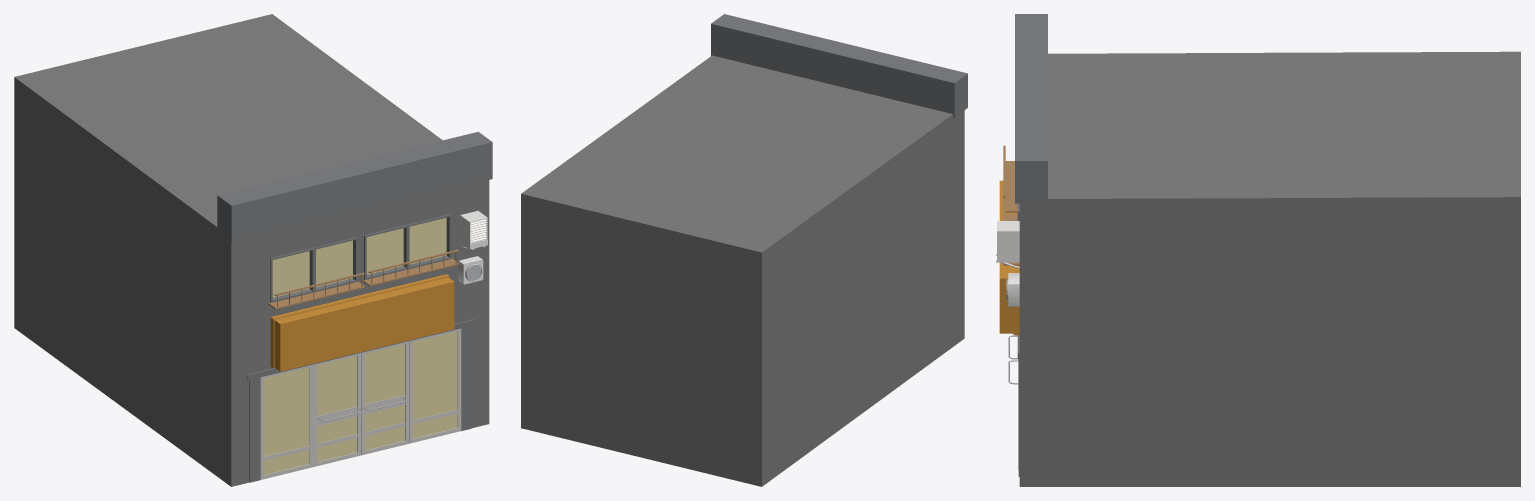
Rendered from SM_building_alley_japan_03 1.fbx.
3 renders of one model, left to right at view 1: azimuth 30°, elevation 25°; view 2: azimuth 150°, elevation 25°; view 3: azimuth 270°, elevation 25°, orthographic. The views are drawn at different scales.
Visible parts, largest first — view 1: Object046; view 2: Object046; view 3: Object046.
Part boxes in pixels (<box>): Object046: <box>14,14,492,486</box>; Object046: <box>521,14,967,486</box>; Object046: <box>996,14,1520,486</box>.
Size of the model in its own units: 298 by 450 by 309.
